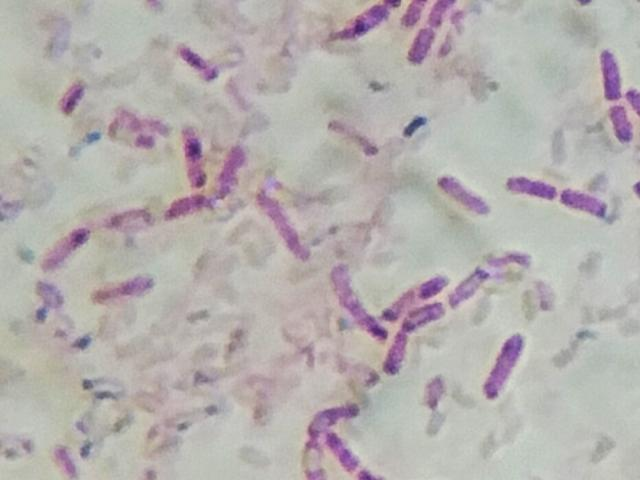E. coli: (322, 260, 387, 343), (248, 183, 309, 265), (473, 326, 527, 400), (88, 269, 171, 307), (37, 225, 96, 272), (328, 110, 379, 161), (211, 143, 254, 199), (559, 179, 613, 223), (173, 127, 210, 185), (385, 278, 448, 311), (329, 426, 371, 475), (340, 0, 387, 43), (305, 395, 357, 433), (448, 262, 495, 304), (435, 175, 482, 213), (173, 39, 214, 82), (61, 72, 94, 120), (168, 190, 215, 223), (596, 42, 623, 99), (379, 327, 410, 376), (415, 370, 449, 414), (402, 303, 447, 334), (509, 170, 552, 200), (299, 435, 325, 479), (424, 0, 459, 30), (409, 25, 432, 64), (609, 105, 630, 143), (399, 0, 423, 24), (625, 80, 640, 117)
